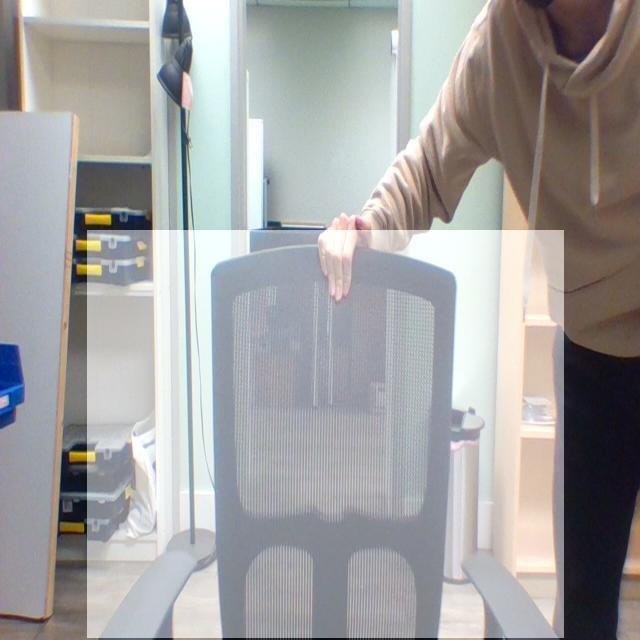black-chair: (87, 230, 565, 639)
